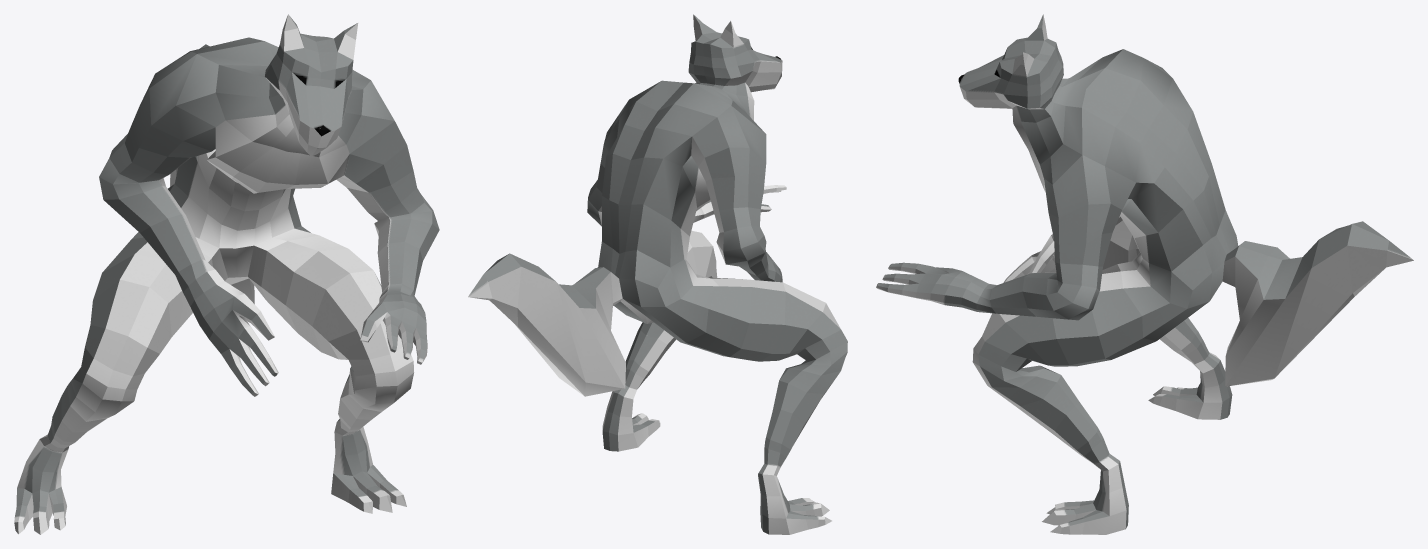
File: WolfAttack(96).obj
3 views of the same model, side by side, from view 1: azimuth 30°, elevation 25°; view 2: azimuth 150°, elevation 25°; view 3: azimuth 270°, elevation 25° (orthographic). The views are drawn at different scales.
Parts seen in each view (by area): view 1: Box001; view 2: Box001; view 3: Box001.
Part boxes in pixels (x1,y1,x2,y2): Box001: (14, 14, 439, 534); Box001: (468, 14, 847, 534); Box001: (876, 14, 1413, 534).
Size of the model in its own units: 84.12 by 118 by 123.
